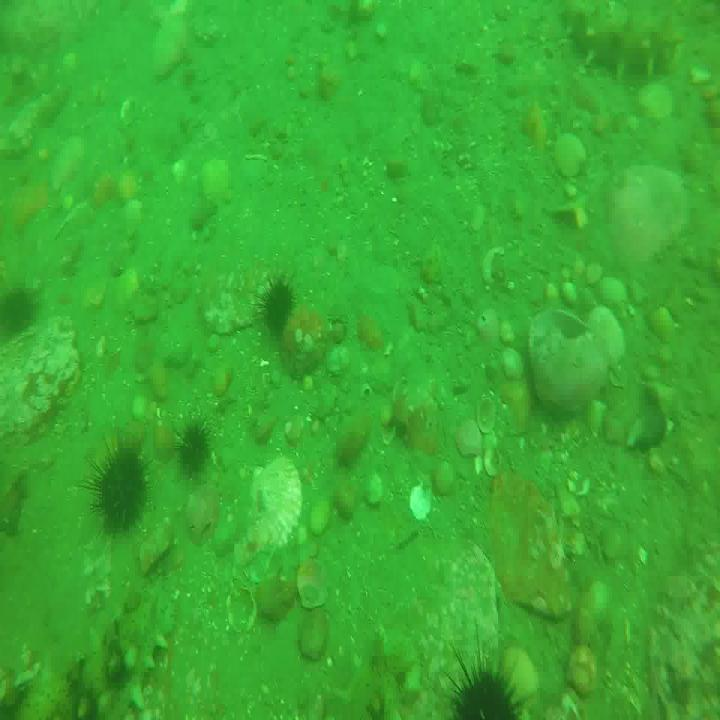echinus: (441, 643, 523, 720), (92, 441, 150, 528), (0, 271, 40, 335), (262, 274, 296, 335), (176, 417, 210, 471)
holothurian: (0, 582, 175, 720)
scallop: (248, 459, 302, 550), (475, 392, 504, 478), (564, 644, 600, 703), (220, 582, 257, 638), (295, 549, 326, 613), (552, 129, 586, 180), (408, 477, 435, 525)
